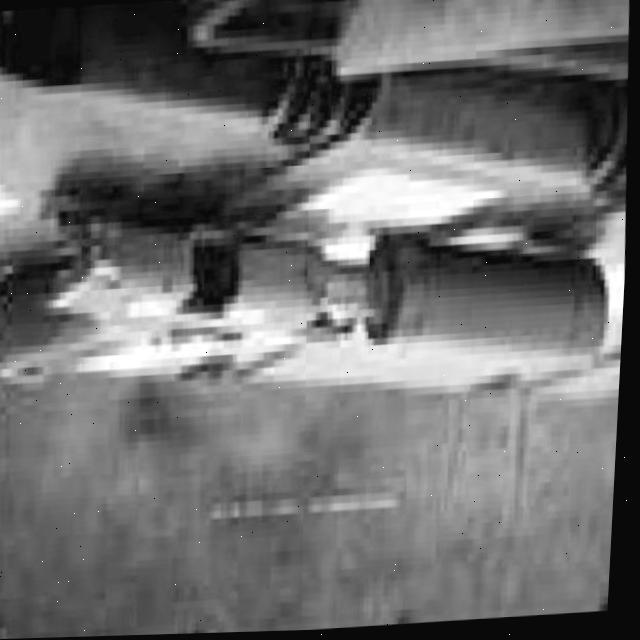gun: (0, 171, 625, 429)
